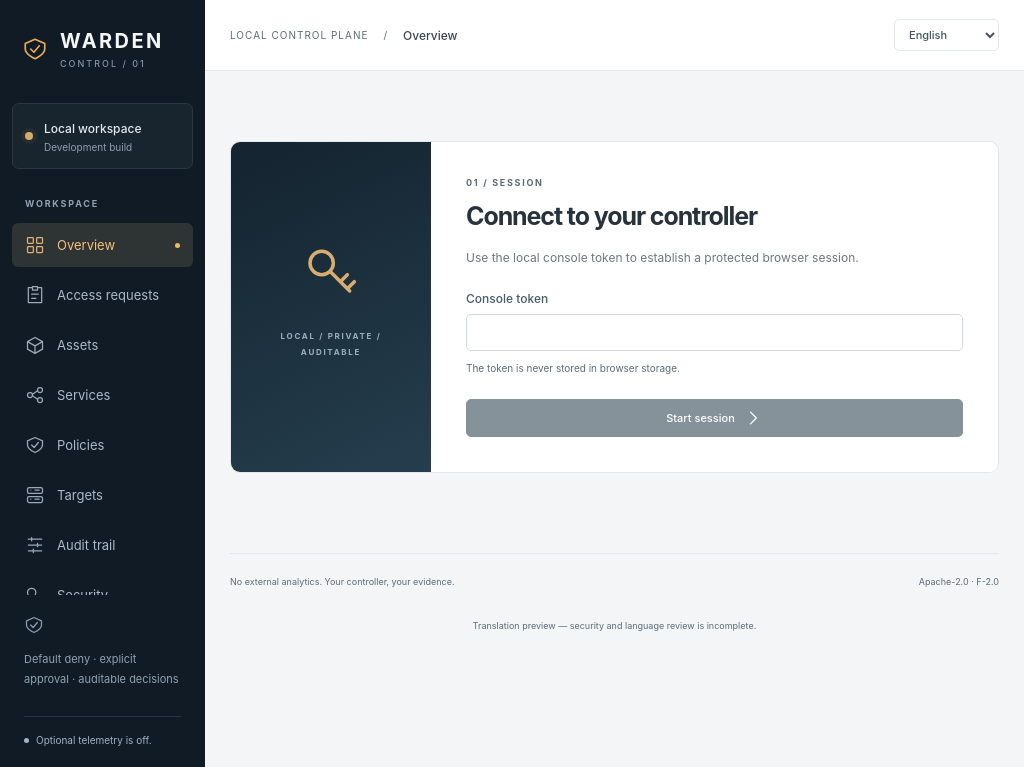
it: bootstrap token stays out of storage and CSRF binds subsequent POST
The image size is (1024, 767).
Type "console-secret-test" into the password field labelled "Console token" at (714, 333), box [466,314,963,351]
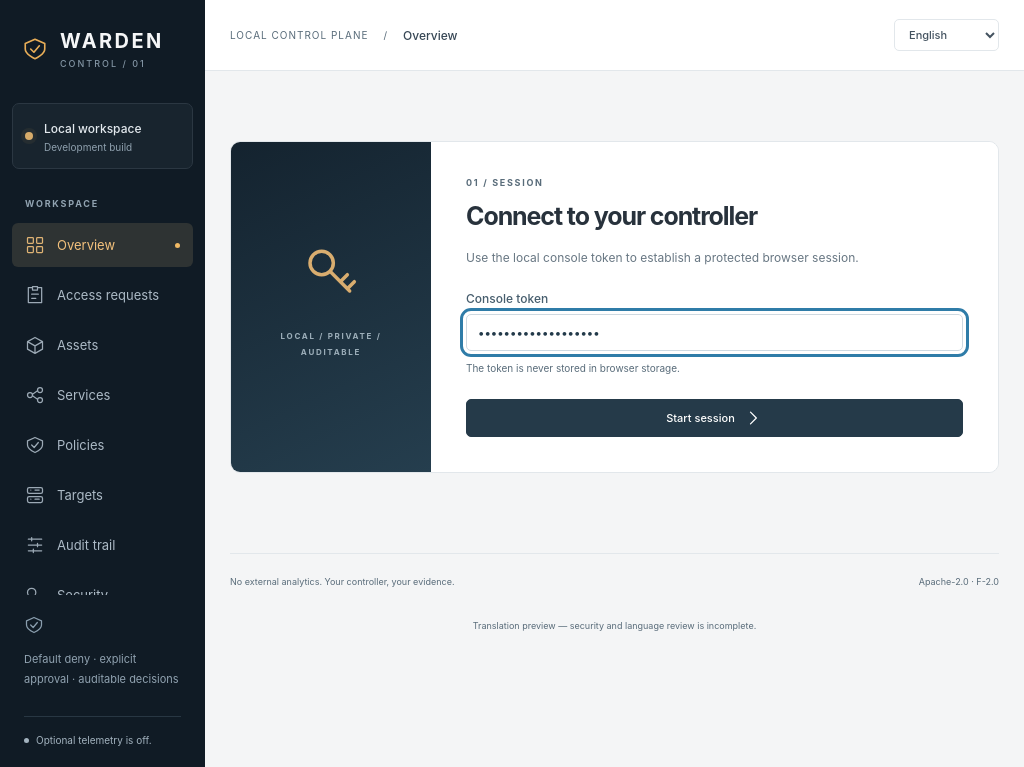
Click the button "Start session" at (714, 418), box [466,399,963,437]
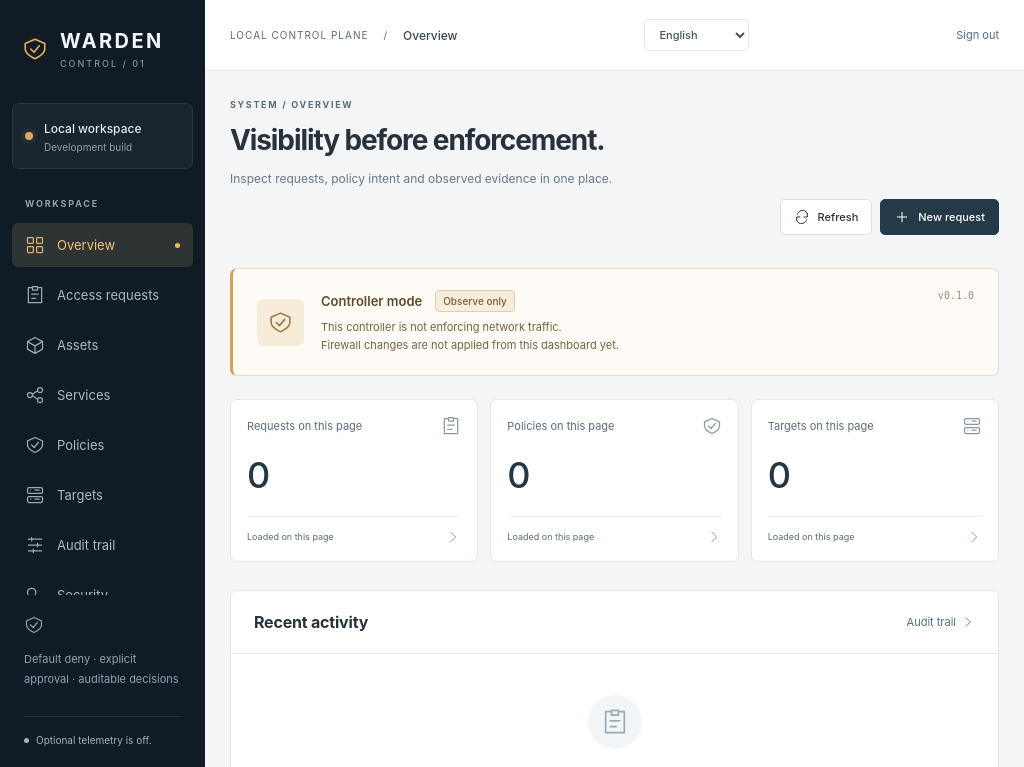
Expected: the text "This controller is not enforcing network traffic." is shown, [321,320,562,334]
